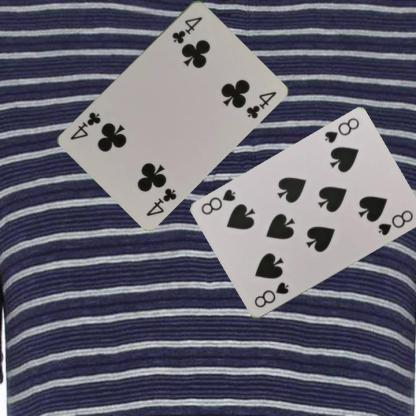4c: (169, 13, 204, 45), (143, 185, 178, 217)
8s: (251, 280, 290, 310), (322, 115, 360, 145)
